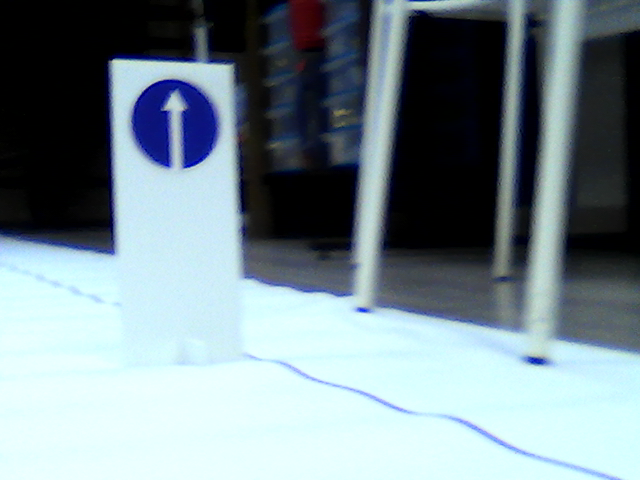forw: (132, 74, 221, 172)
